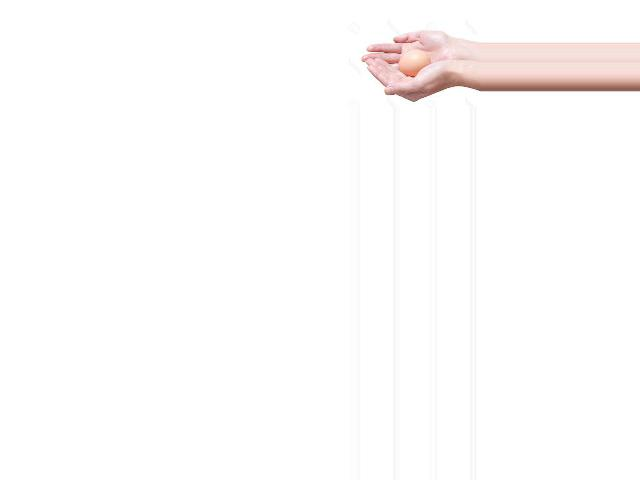egg: (398, 51, 428, 76)
